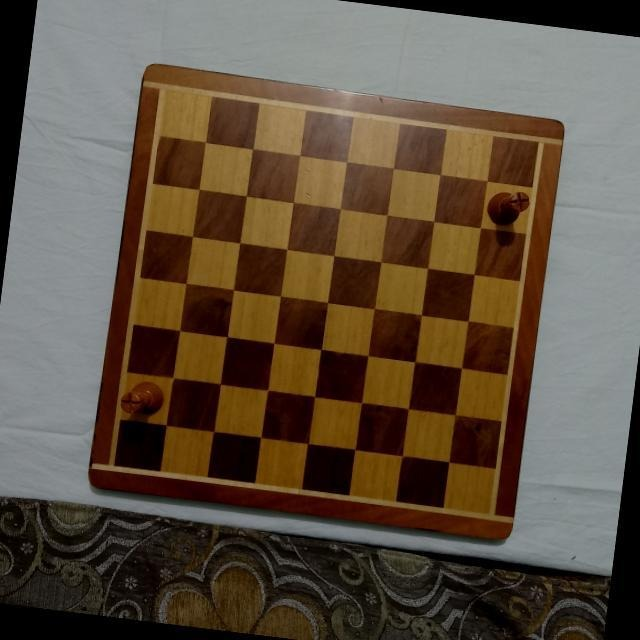white-rook: (483, 184, 533, 229), (115, 378, 164, 420)
